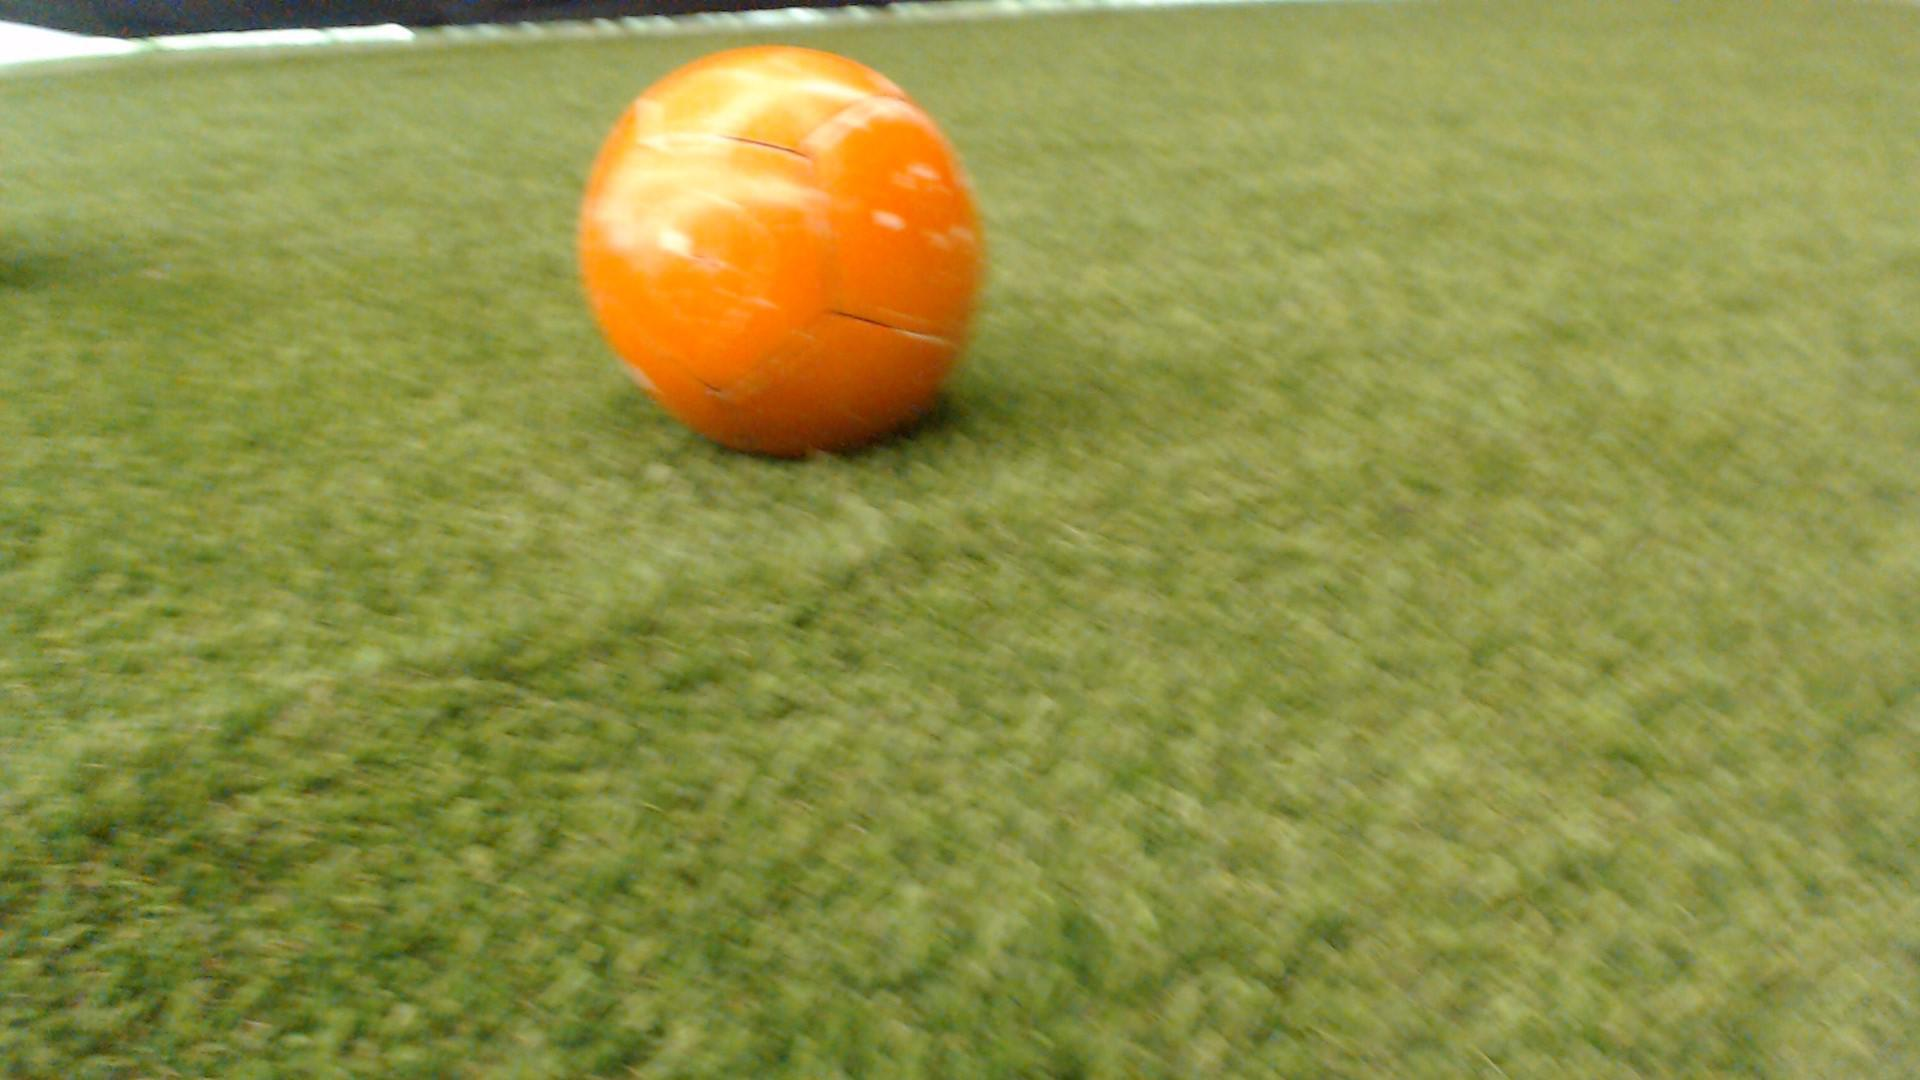bola: (534, 22, 1018, 471)
